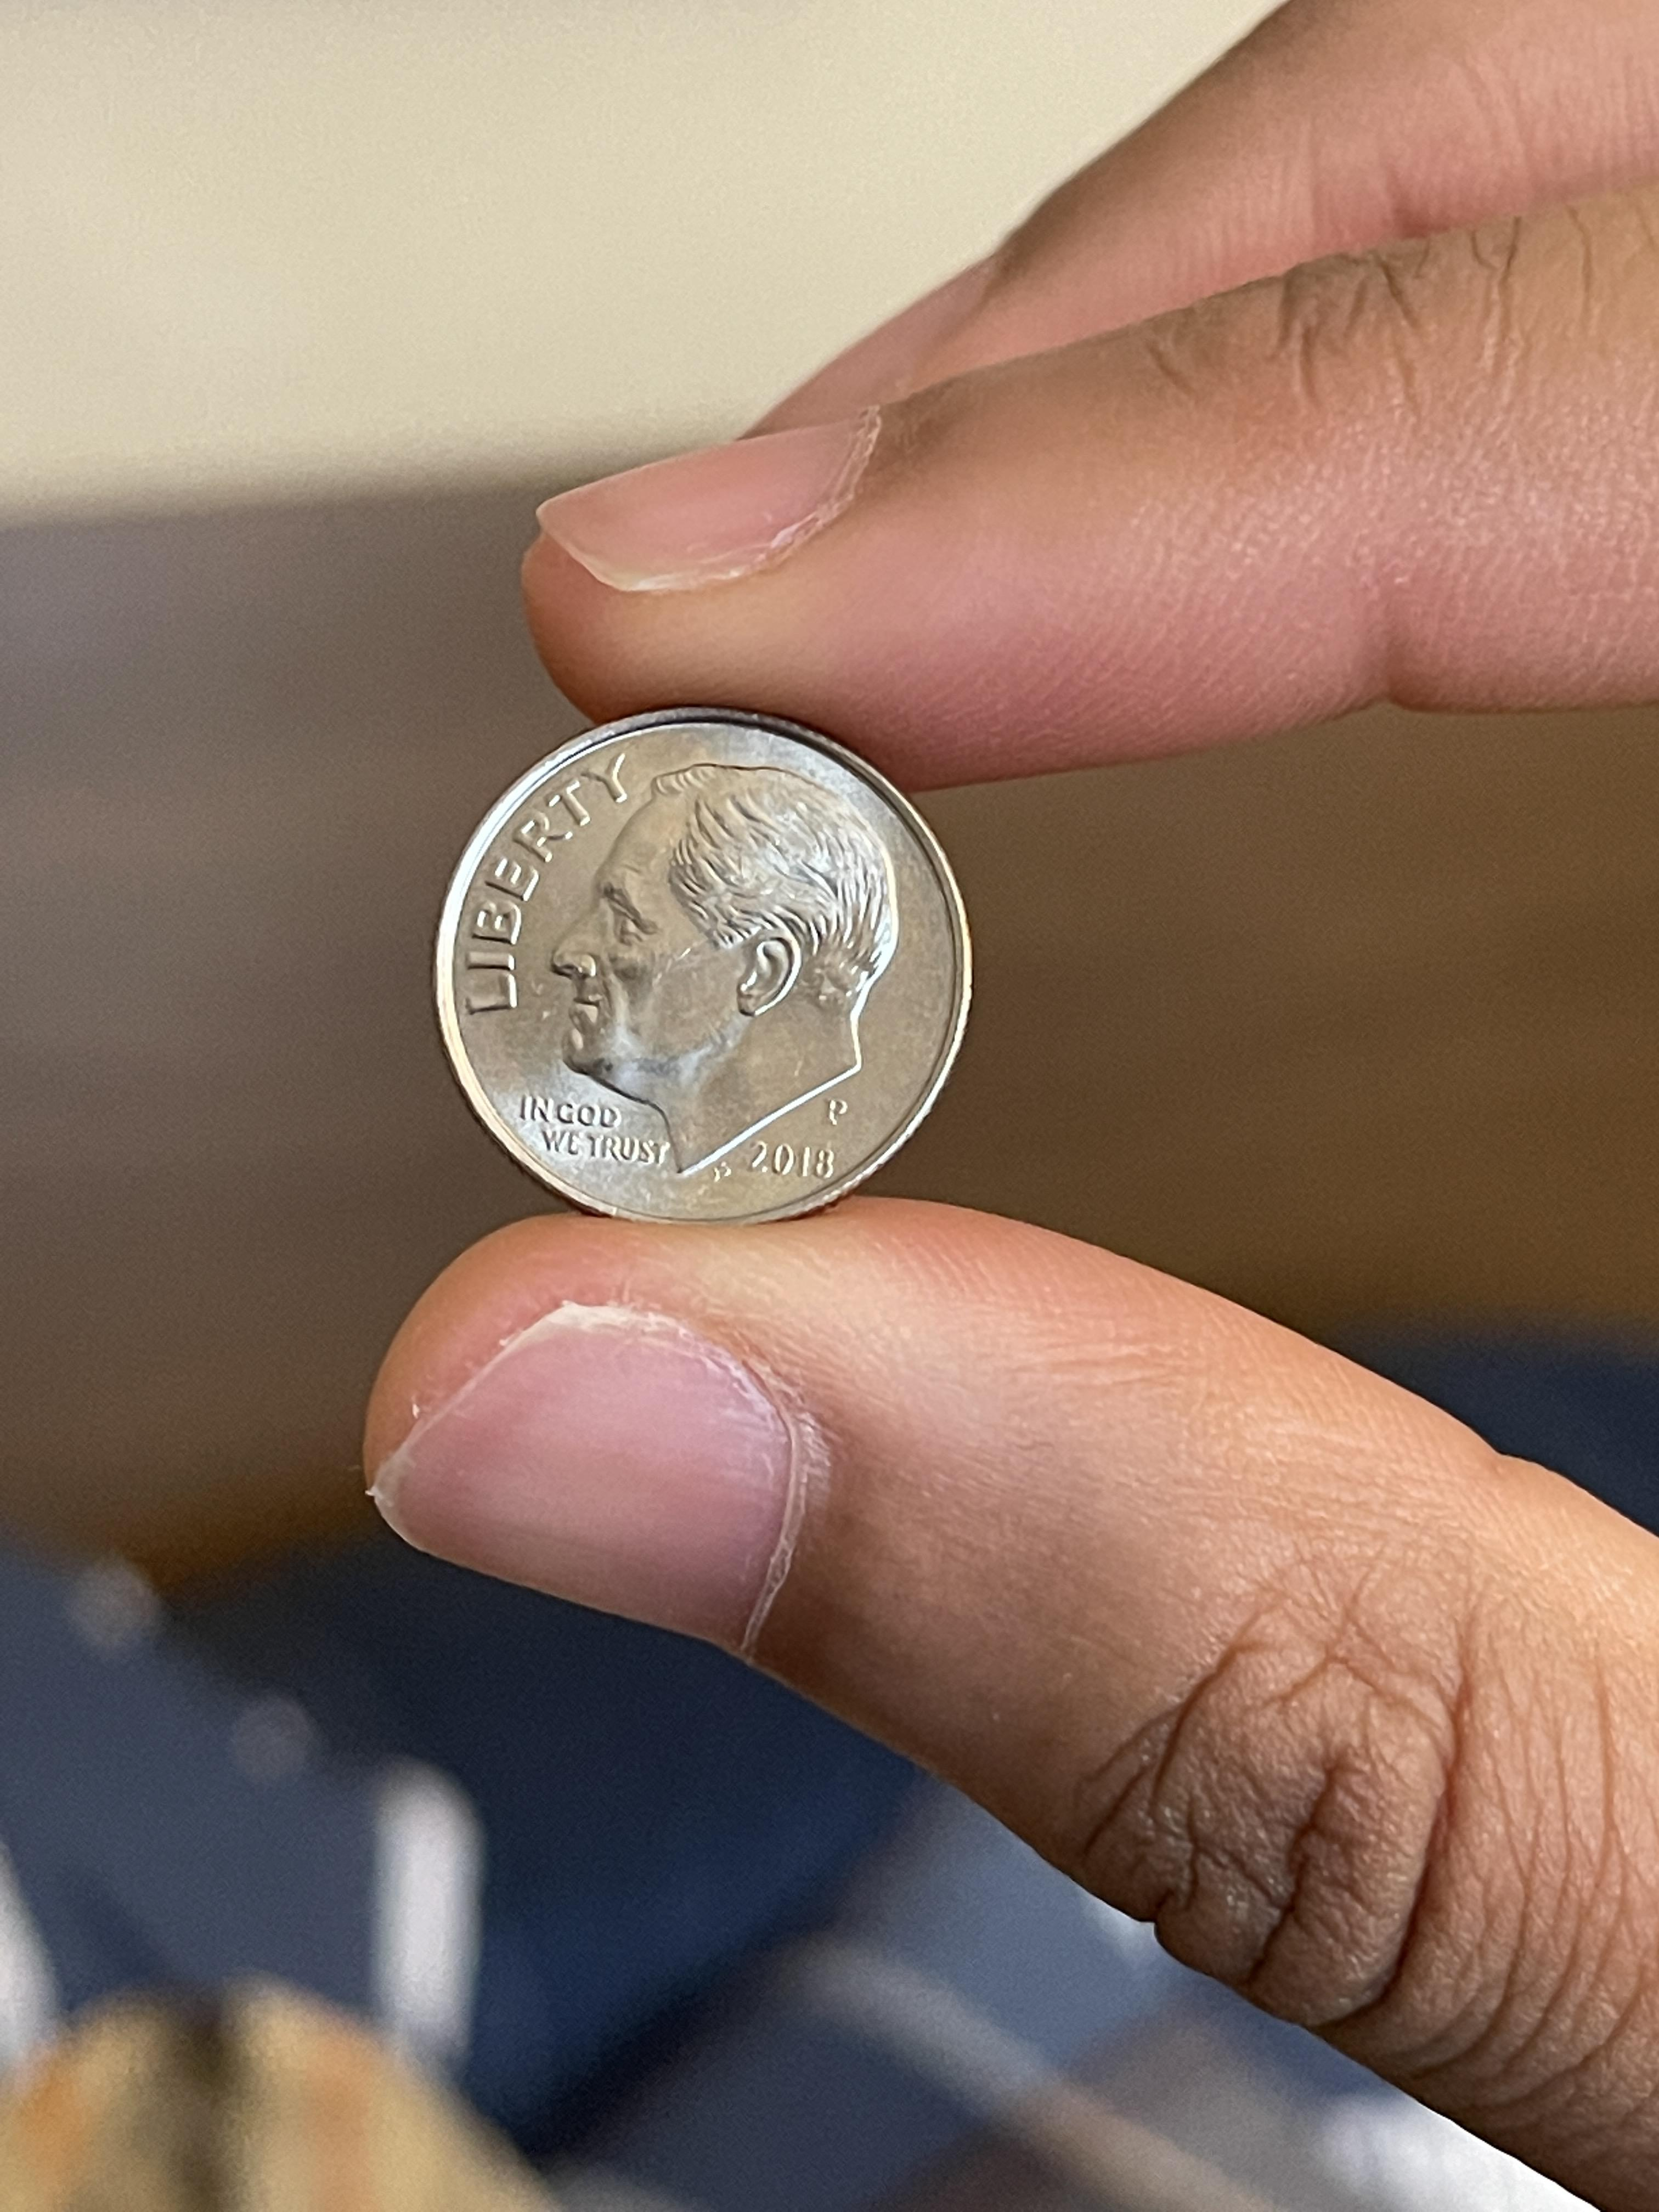Dime: (423, 698, 983, 1231)
